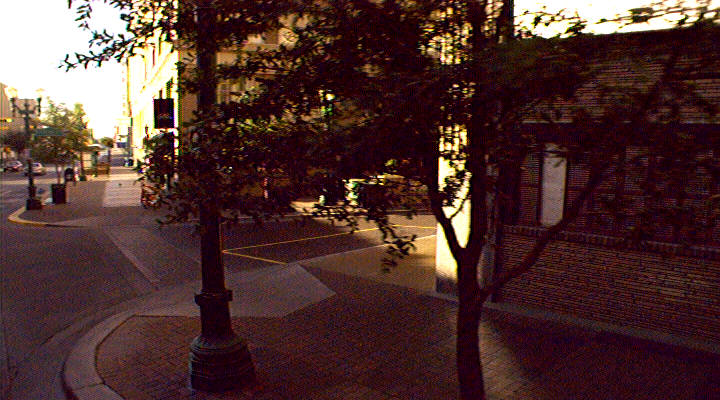Ramp: (120, 259, 342, 319), (56, 207, 173, 233)
